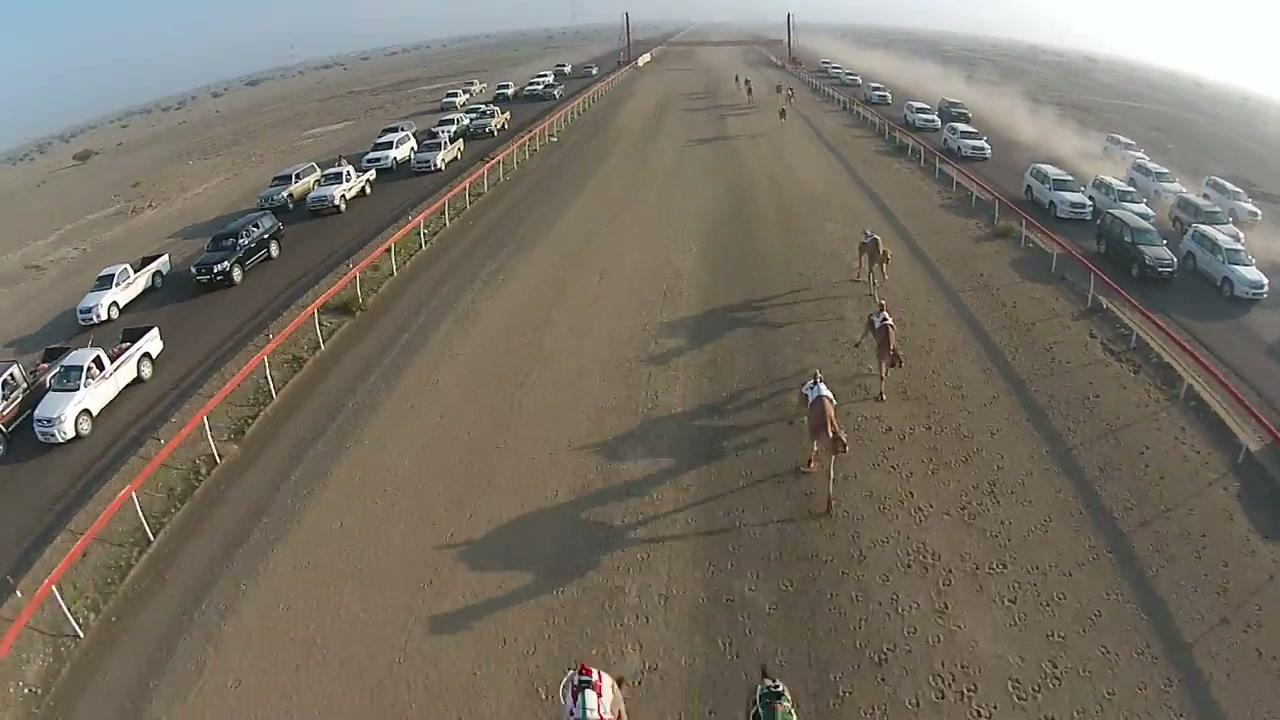animal_footprint: (844, 395, 1073, 718)
